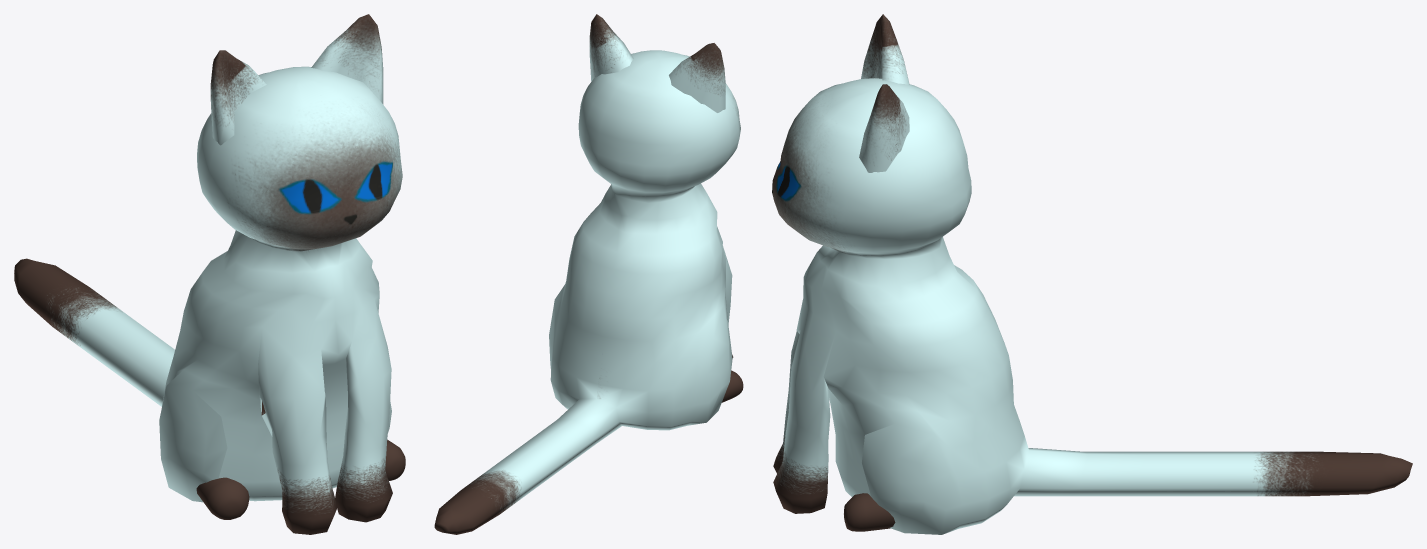
File: HidingCatModel.fbx
3 views of the same model, side by side, from view 1: azimuth 30°, elevation 25°; view 2: azimuth 150°, elevation 25°; view 3: azimuth 270°, elevation 25° (orthographic). The views are drawn at different scales.
Visible parts, largest first — view 1: Jewel; view 2: Jewel; view 3: Jewel.
Part boxes in pixels (box(x1,y1,x2,y2)): Jewel: box(14, 14, 405, 534); Jewel: box(434, 14, 743, 534); Jewel: box(772, 14, 1412, 534).
Bounding box in the file's own units: 2.59 × 5.41 × 7.07.
